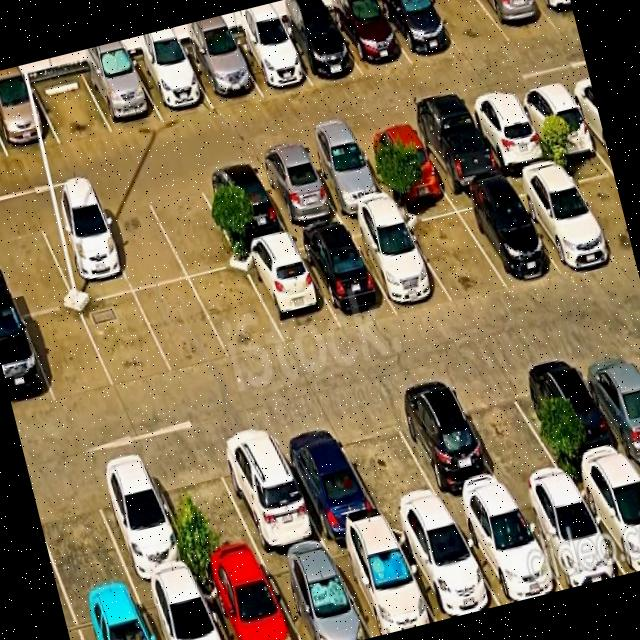empty: (450, 366, 568, 495), (147, 445, 262, 574), (329, 400, 447, 523), (31, 471, 133, 605), (399, 200, 507, 302), (144, 175, 241, 278), (94, 191, 187, 290), (134, 279, 230, 374), (79, 291, 173, 388), (23, 306, 114, 403), (190, 266, 285, 358), (560, 154, 635, 261), (0, 215, 75, 316), (31, 70, 112, 144), (426, 0, 510, 55)
occupied: (387, 382, 510, 512), (210, 424, 324, 557), (85, 457, 196, 588), (269, 415, 383, 541), (520, 350, 632, 477), (512, 482, 625, 589), (326, 528, 436, 637), (452, 497, 563, 604), (390, 515, 500, 621), (506, 166, 616, 271), (451, 185, 558, 287), (239, 238, 340, 346), (293, 224, 396, 328), (261, 546, 372, 640), (346, 213, 452, 311), (36, 203, 132, 304), (572, 339, 640, 461), (198, 560, 299, 640), (407, 108, 503, 192), (196, 162, 289, 248), (251, 149, 342, 232), (573, 463, 640, 573), (300, 137, 391, 217), (354, 123, 447, 201), (464, 93, 552, 172), (513, 81, 600, 158), (327, 0, 412, 76), (278, 12, 362, 85), (81, 59, 163, 132), (130, 49, 213, 121), (136, 575, 226, 640), (229, 27, 312, 96), (0, 314, 55, 415), (376, 0, 461, 64), (184, 39, 261, 108), (0, 82, 60, 156), (72, 590, 155, 640), (480, 0, 557, 41), (537, 0, 576, 28)
